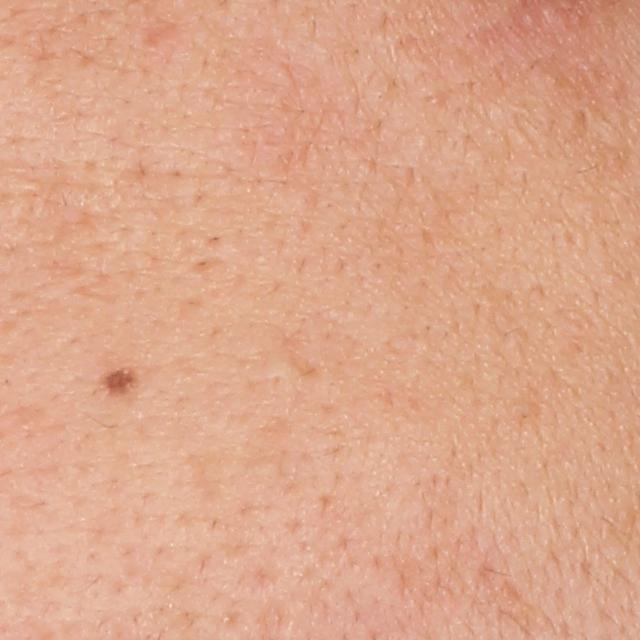nevus: (97, 358, 143, 400)
